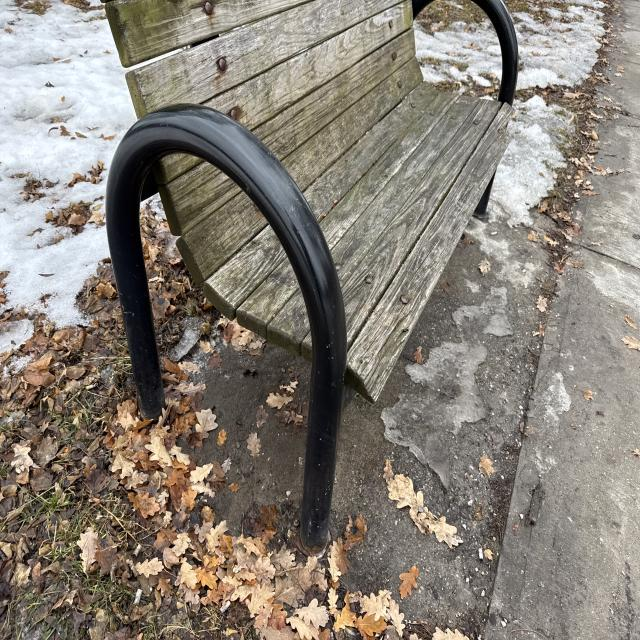Bench: (106, 12, 430, 536), (101, 6, 524, 259)
